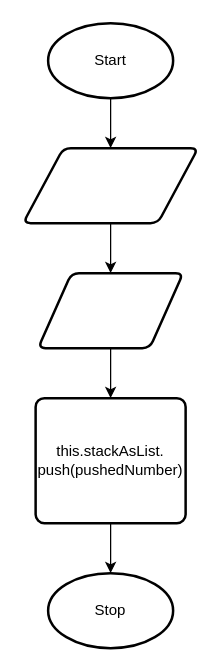
This 220x670 diagram has some shape labels left out. Here are the shapes that lost their labels. From the top down, the centre of each, then its label:
At [110,185]: "get pushedNumbers".
At [110,310]: "get StackAsList".
